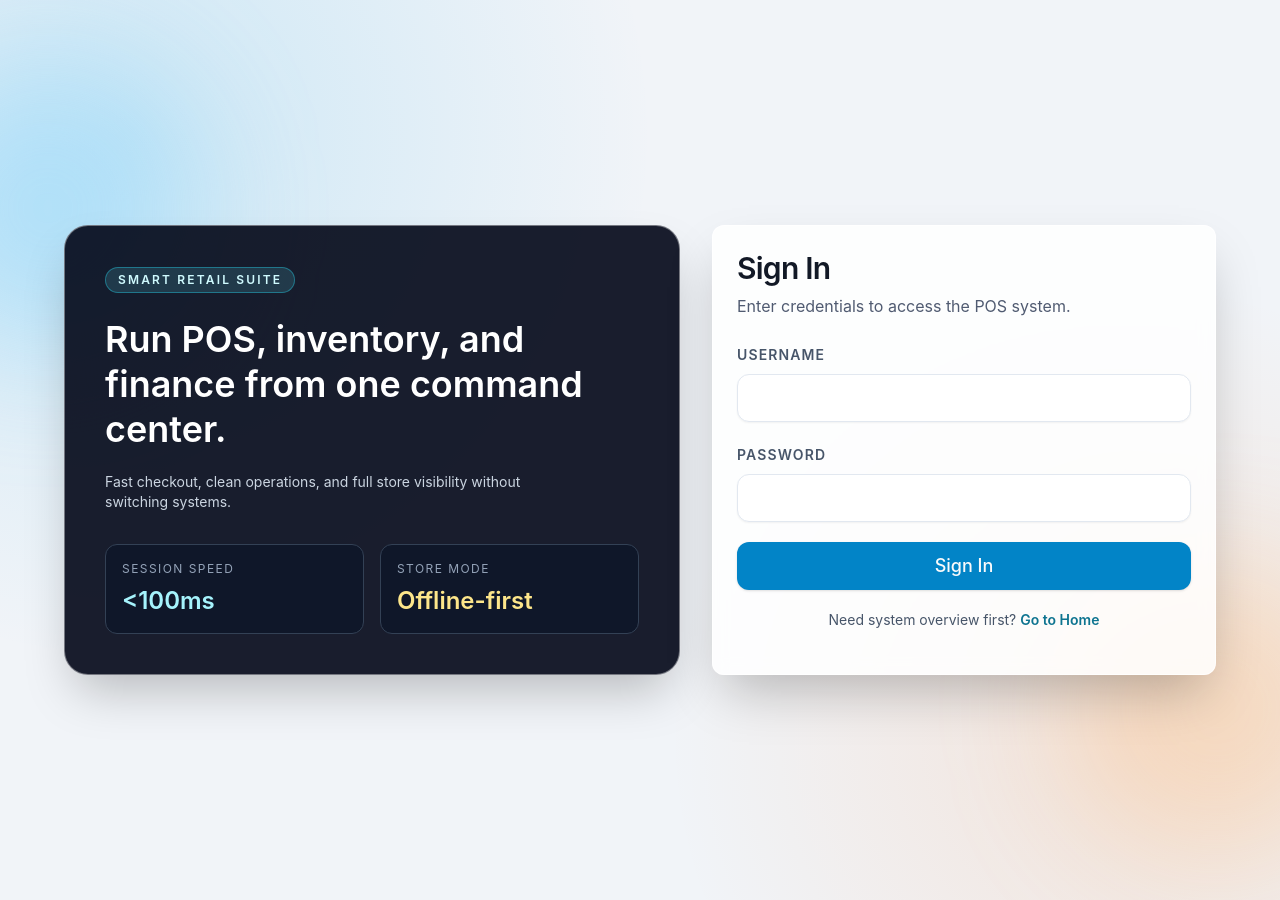
Test case: LoginPage › shows validation errors when fields are empty
Step 1. Clear the field labelled "Username" → [964, 398], box [737,374,1191,422]
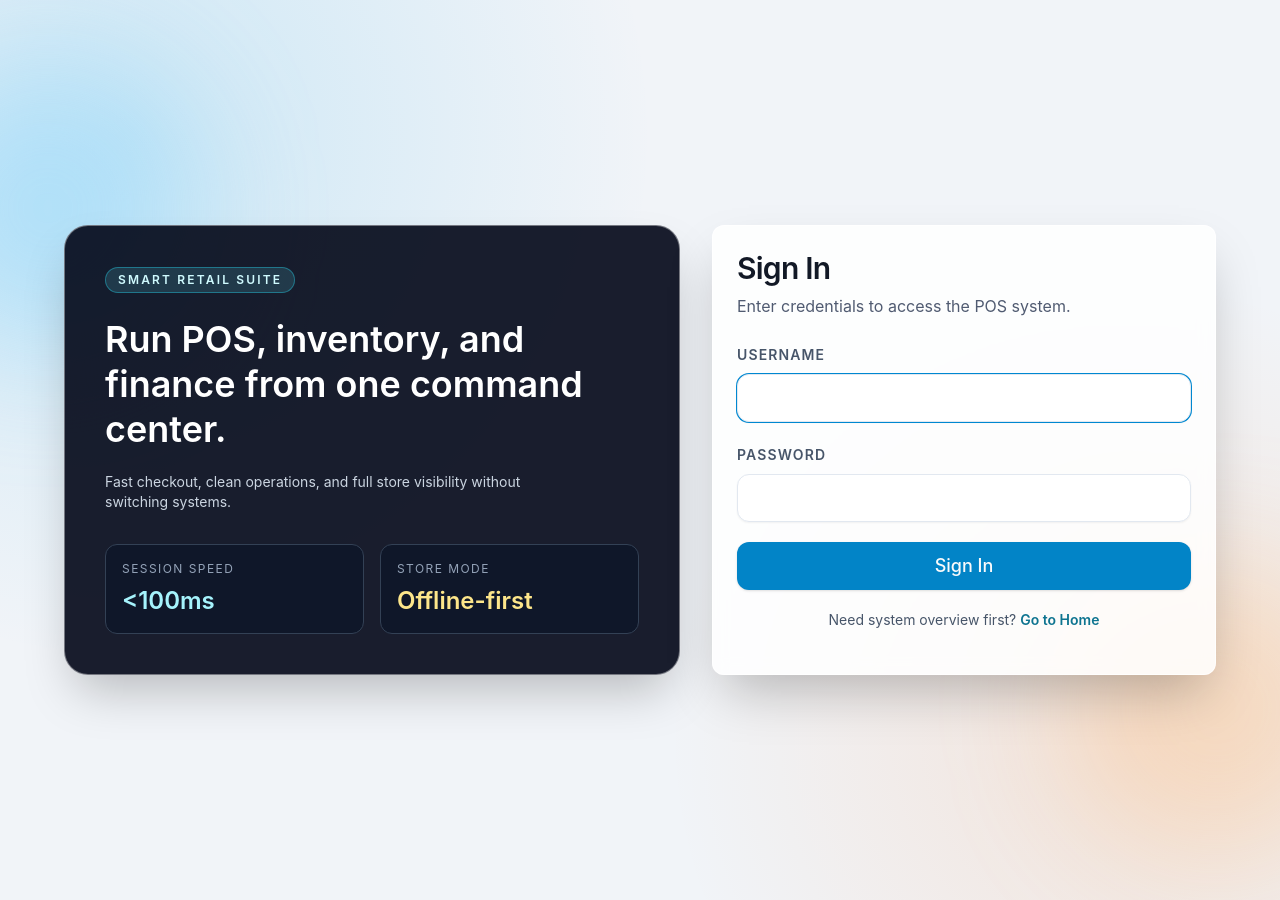
Step 2. Clear the password field labelled "Password" → [964, 498], box [737,474,1191,522]
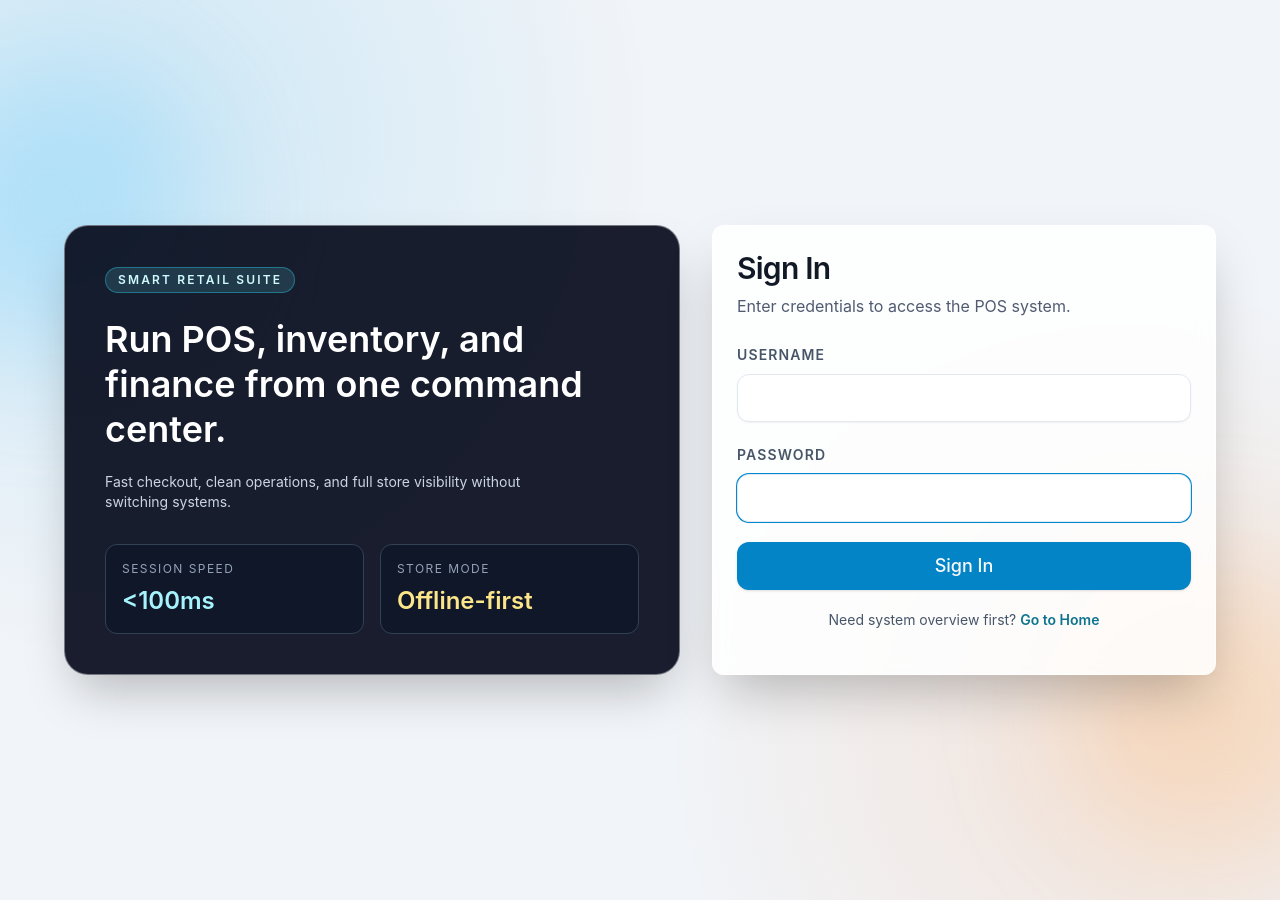
Step 3. Click the button "Sign In" → [964, 566], box [737,542,1191,590]
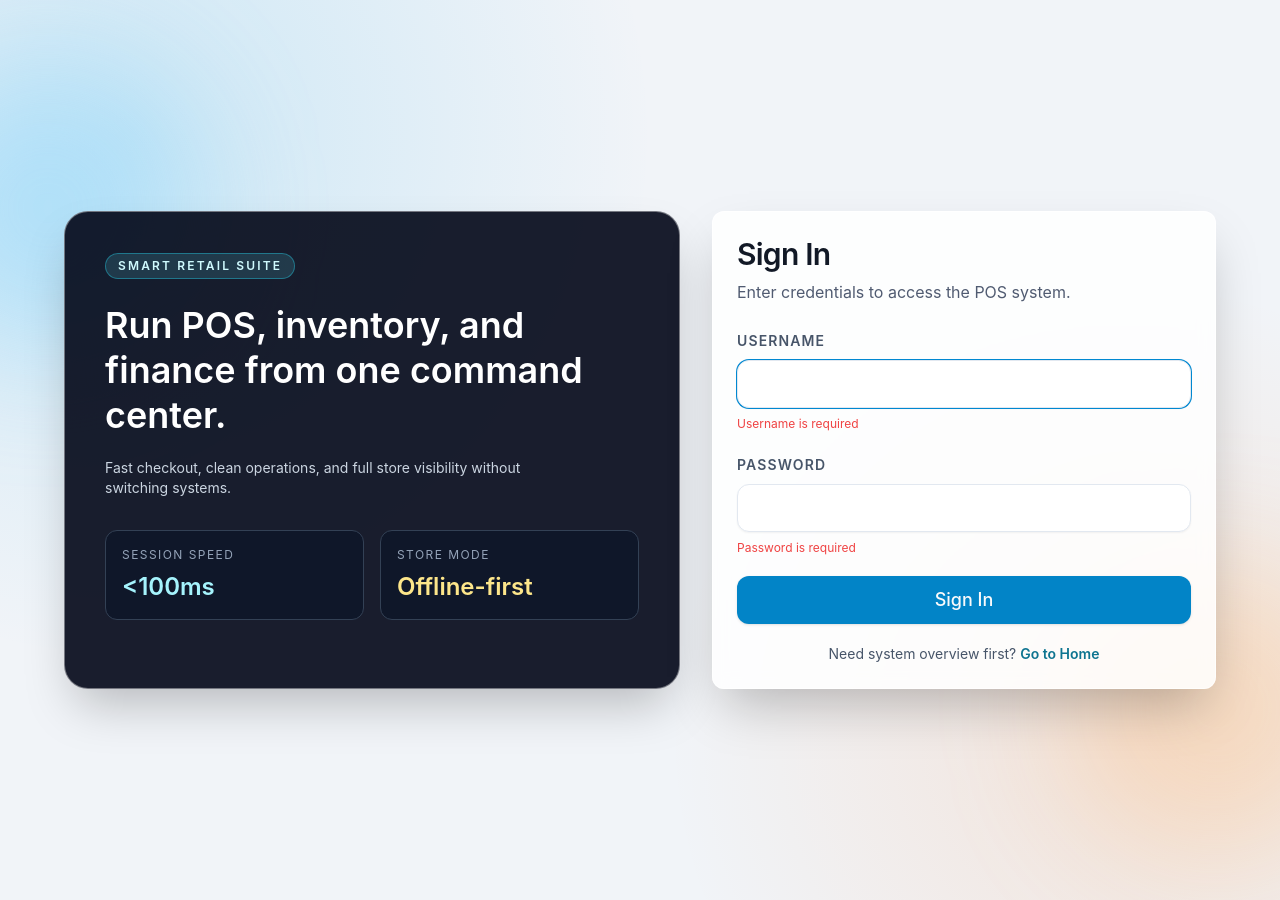
Expected: the text "Username is required" is shown, [737,416,859,431]
Expected: the text "Password is required" is shown, [737,540,856,555]
